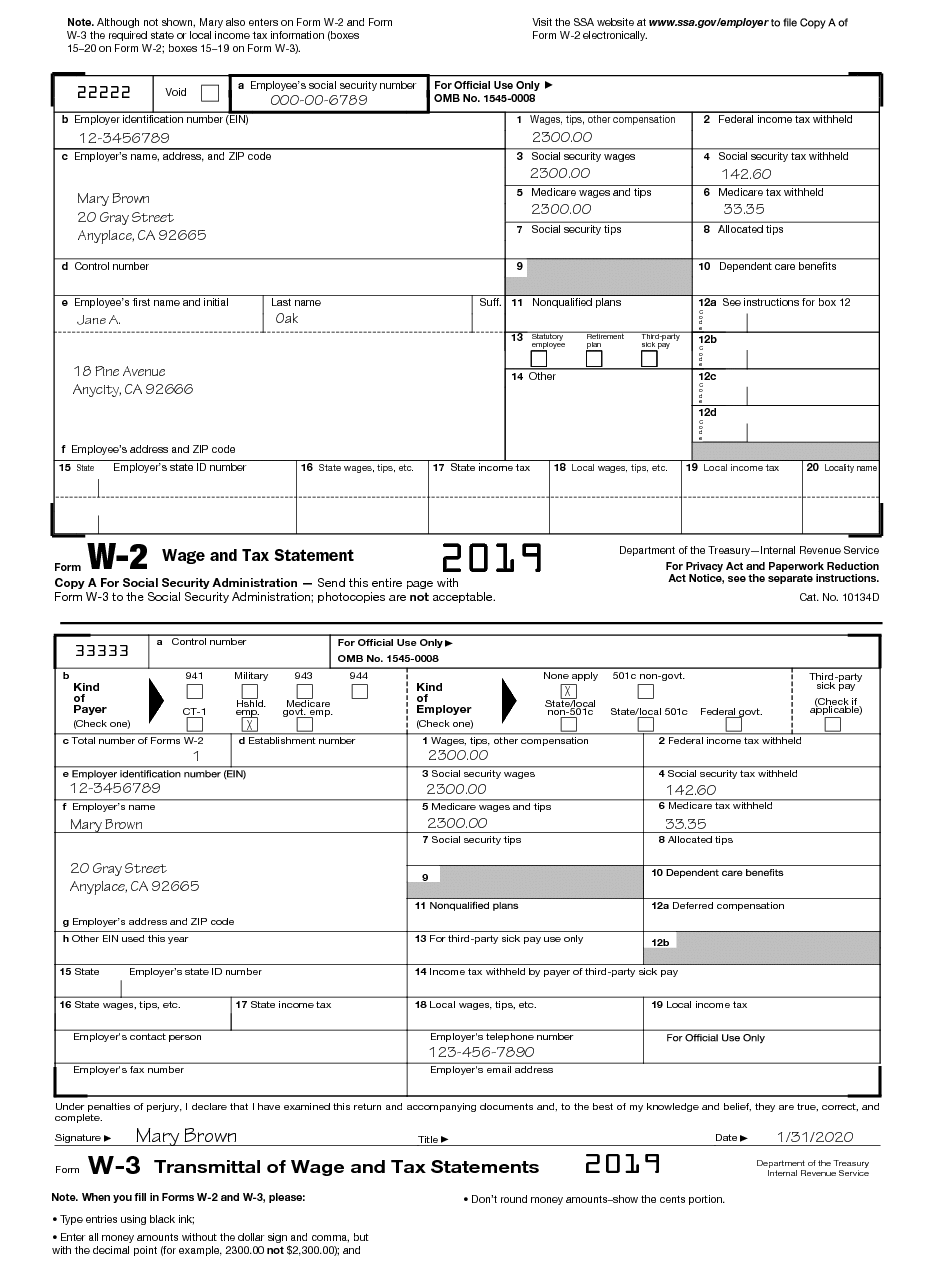checkbox: (349, 681, 372, 703), (558, 681, 581, 703), (558, 714, 581, 736), (634, 680, 657, 702), (635, 713, 658, 735), (723, 712, 746, 734), (821, 713, 844, 735), (527, 347, 550, 369), (583, 347, 606, 369), (638, 347, 661, 369), (198, 83, 221, 105), (182, 682, 206, 701), (183, 715, 207, 734), (238, 682, 262, 701), (238, 715, 262, 734), (293, 681, 317, 700), (293, 714, 317, 733)
textbox: (49, 326, 509, 464), (49, 143, 511, 264), (51, 826, 411, 936), (423, 69, 886, 118), (48, 106, 511, 155), (49, 252, 512, 301), (401, 959, 886, 1004), (403, 1058, 885, 1101), (501, 365, 697, 464), (51, 794, 411, 838), (53, 762, 413, 806), (52, 926, 412, 970), (51, 1027, 412, 1067), (49, 1059, 410, 1099), (48, 453, 303, 502), (47, 490, 302, 539), (120, 960, 412, 1000), (640, 926, 886, 969), (638, 894, 884, 937), (638, 861, 884, 904), (401, 859, 647, 902), (405, 824, 651, 867), (640, 828, 886, 871), (638, 795, 884, 838), (405, 792, 651, 835), (402, 762, 648, 805), (638, 761, 884, 804), (402, 726, 648, 769), (639, 727, 885, 770), (50, 290, 269, 337), (260, 289, 479, 336), (405, 894, 646, 936), (403, 1024, 647, 1065), (403, 992, 647, 1033), (640, 992, 884, 1033), (640, 1025, 884, 1066), (226, 71, 432, 116), (500, 289, 697, 336), (500, 109, 696, 152), (689, 108, 885, 151), (502, 145, 698, 188), (688, 145, 884, 188), (502, 181, 698, 224), (688, 183, 884, 226), (502, 218, 698, 261), (688, 217, 884, 260), (687, 255, 883, 298), (502, 255, 698, 298), (501, 293, 697, 336), (686, 292, 882, 335), (687, 329, 883, 372), (688, 365, 884, 408), (692, 401, 888, 444), (145, 631, 335, 672), (51, 729, 235, 770), (228, 728, 412, 769), (50, 993, 236, 1033), (227, 994, 411, 1032), (292, 455, 434, 502), (290, 493, 433, 537), (544, 493, 687, 537), (546, 455, 689, 499), (676, 457, 808, 502), (676, 491, 808, 536), (427, 456, 555, 501), (426, 494, 554, 539), (798, 456, 885, 504), (798, 490, 885, 538), (51, 961, 125, 1000), (468, 290, 510, 336)
textline: (103, 1125, 416, 1149), (438, 1125, 714, 1149), (738, 1125, 887, 1150)
